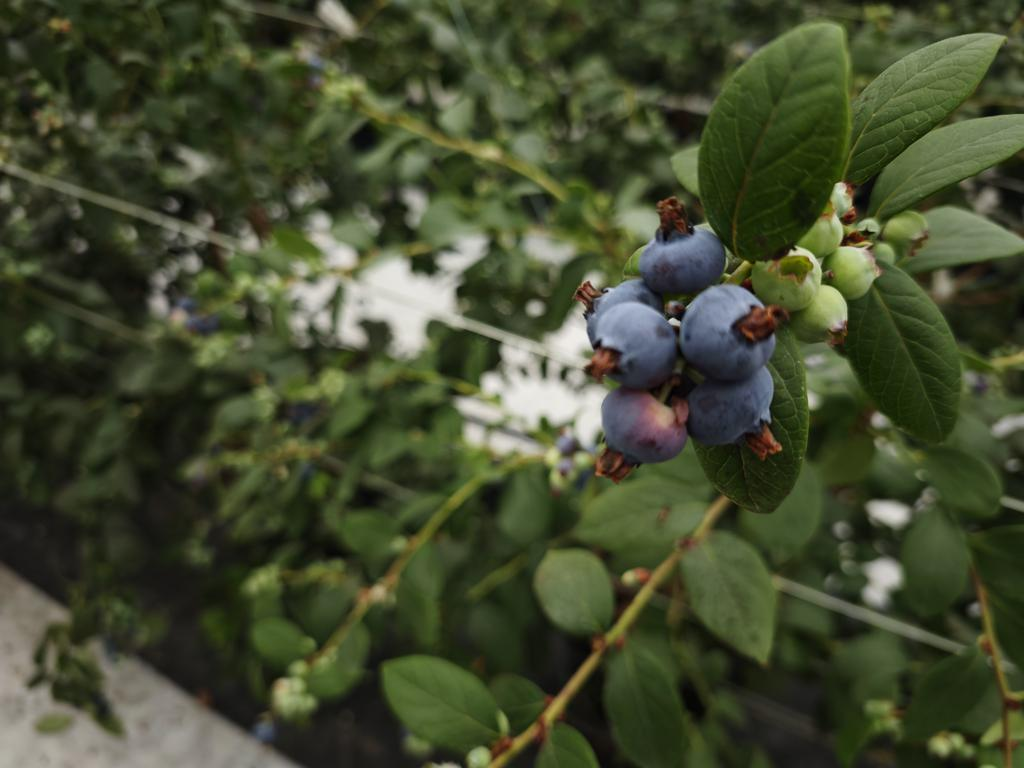RipeBlueBerry: (681, 283, 786, 392), (582, 289, 690, 380), (646, 213, 730, 293)
Semi-RipeBlueBerry: (597, 383, 693, 484)
